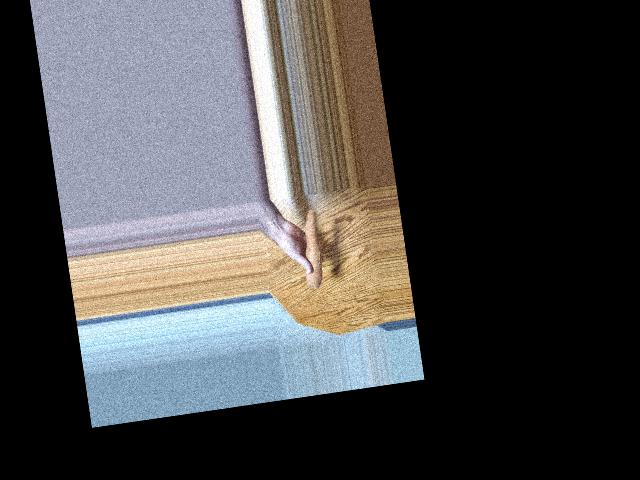sweet_potato: (298, 205, 328, 288)
